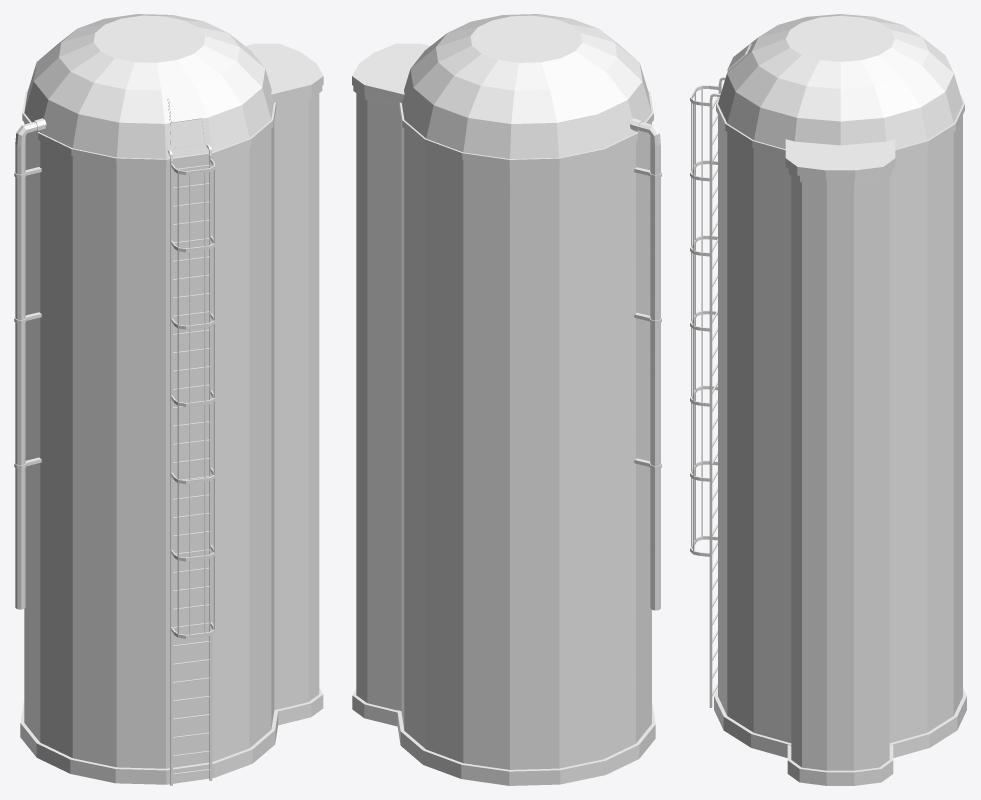
The model's file is Bld_Silo_01.glb.
3 renders of one model, left to right at view 1: azimuth 30°, elevation 25°; view 2: azimuth 150°, elevation 25°; view 3: azimuth 270°, elevation 25°, orthographic. The views are drawn at different scales.
Parts seen in each view (by area): view 1: Bld_Silo_01; view 2: Bld_Silo_01; view 3: Bld_Silo_01.
Boxes of the visible parts, x1=… form: Bld_Silo_01: x1=14, y1=14, x2=323, y2=785; Bld_Silo_01: x1=352, y1=14, x2=661, y2=785; Bld_Silo_01: x1=690, y1=14, x2=966, y2=785.
Size of the model in its own units: 6.73 by 15.1 by 5.65.
1 material, 1 textured.
